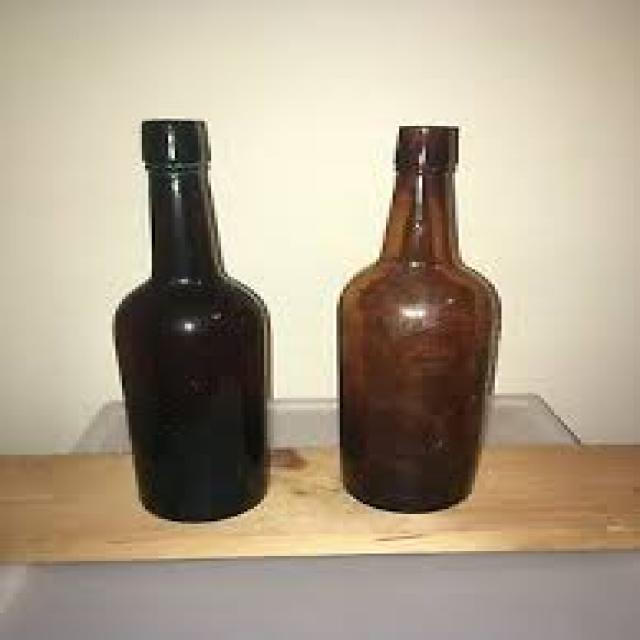glass: (336, 126, 498, 512), (115, 121, 267, 519)
